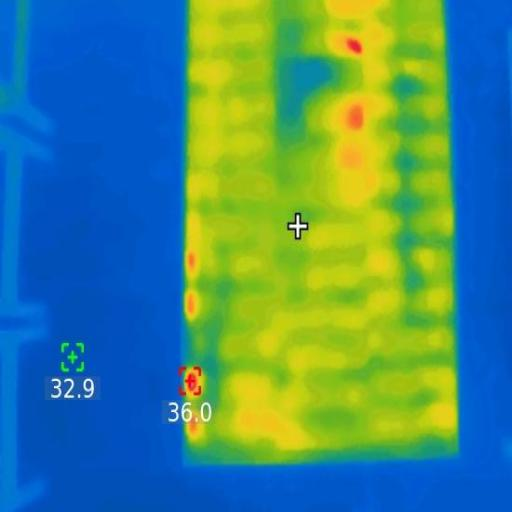hotspot: (344, 35, 362, 53), (350, 105, 362, 129), (189, 367, 196, 394)
